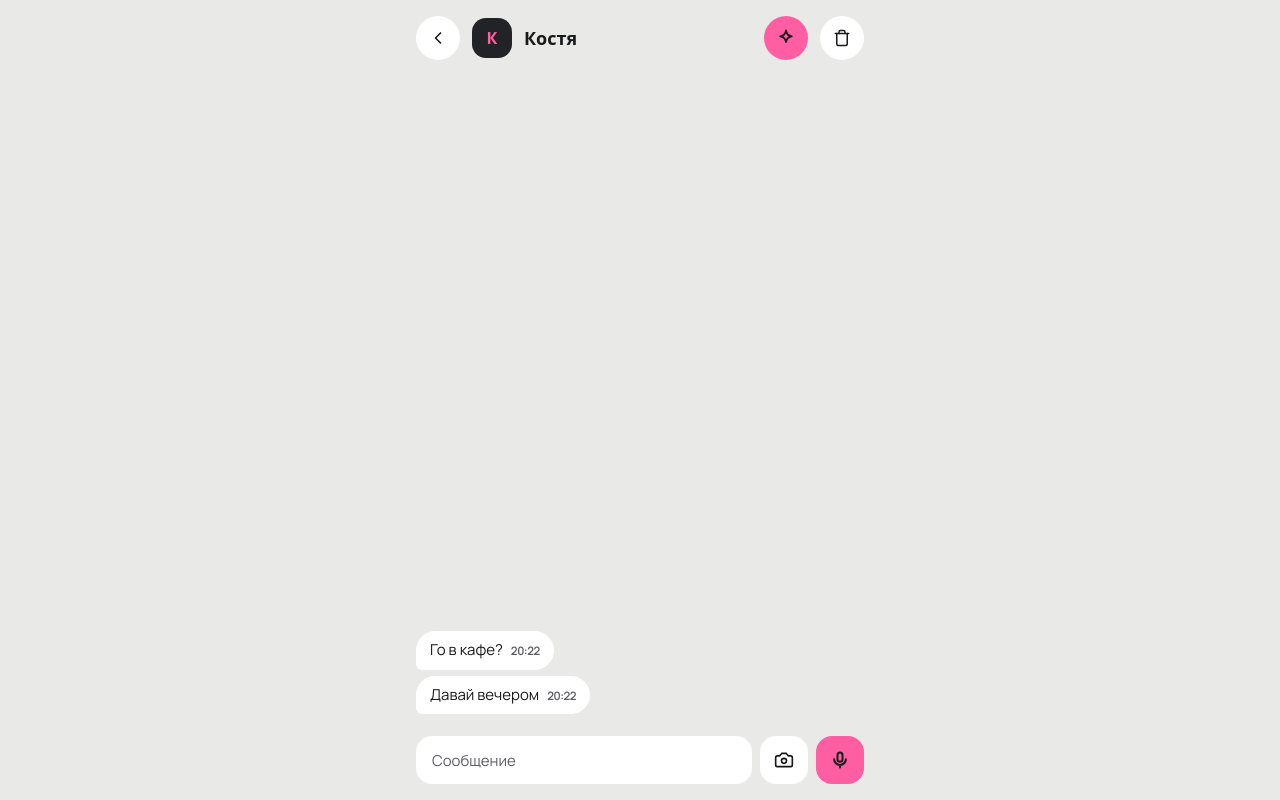
it: "Айда, организуй" in a chat (M5) › shows venues with review links and makes the chosen one a plan
The image size is (1280, 800).
Click the button named "Айда, организуй" at [786, 38], box x1=764 y1=16 x2=808 y2=60
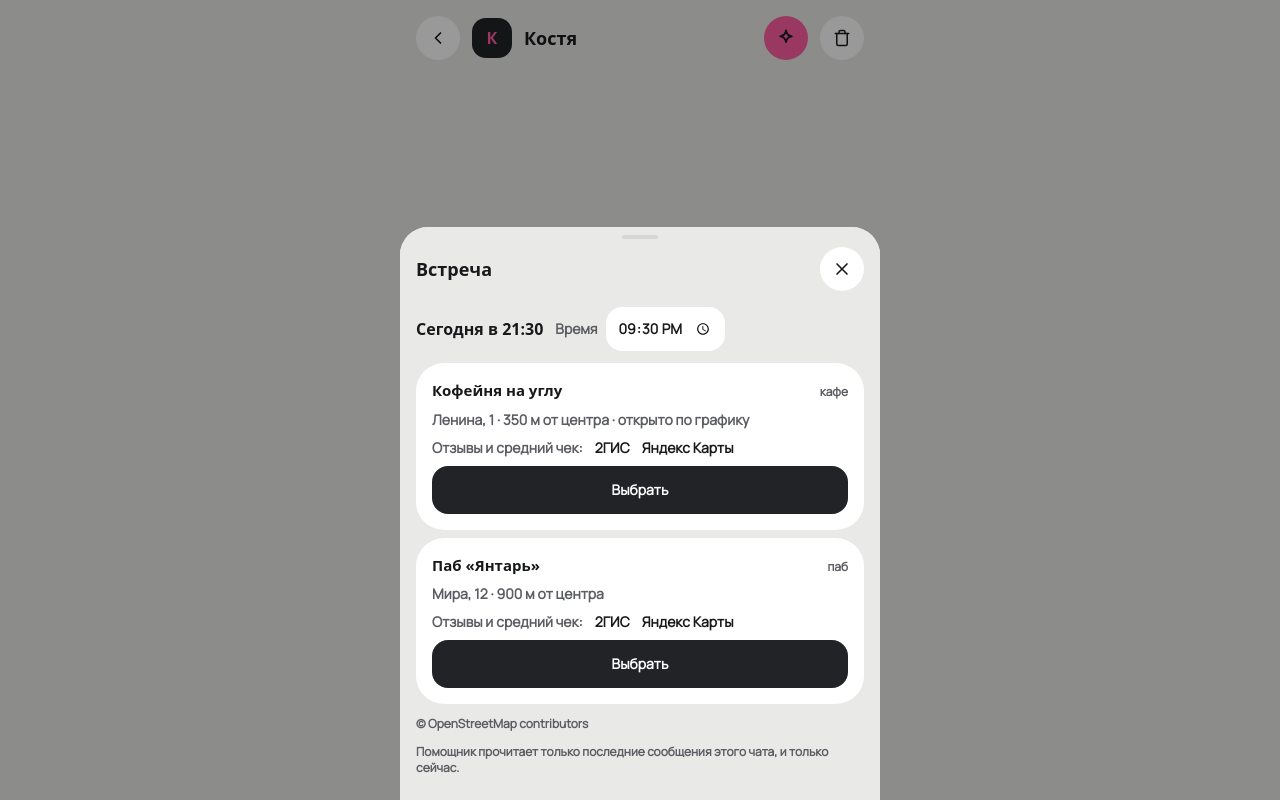
expect the text "© OpenStreetMap contributors" is shown: met, box x1=416 y1=715 x2=588 y2=732
expect the text "Сегодня в 21:30" is shown: met, box x1=416 y1=317 x2=543 y2=341
Click the button with aria-label "Выбрать Кофейня на углу" at [640, 490], box x1=432 y1=466 x2=848 y2=514
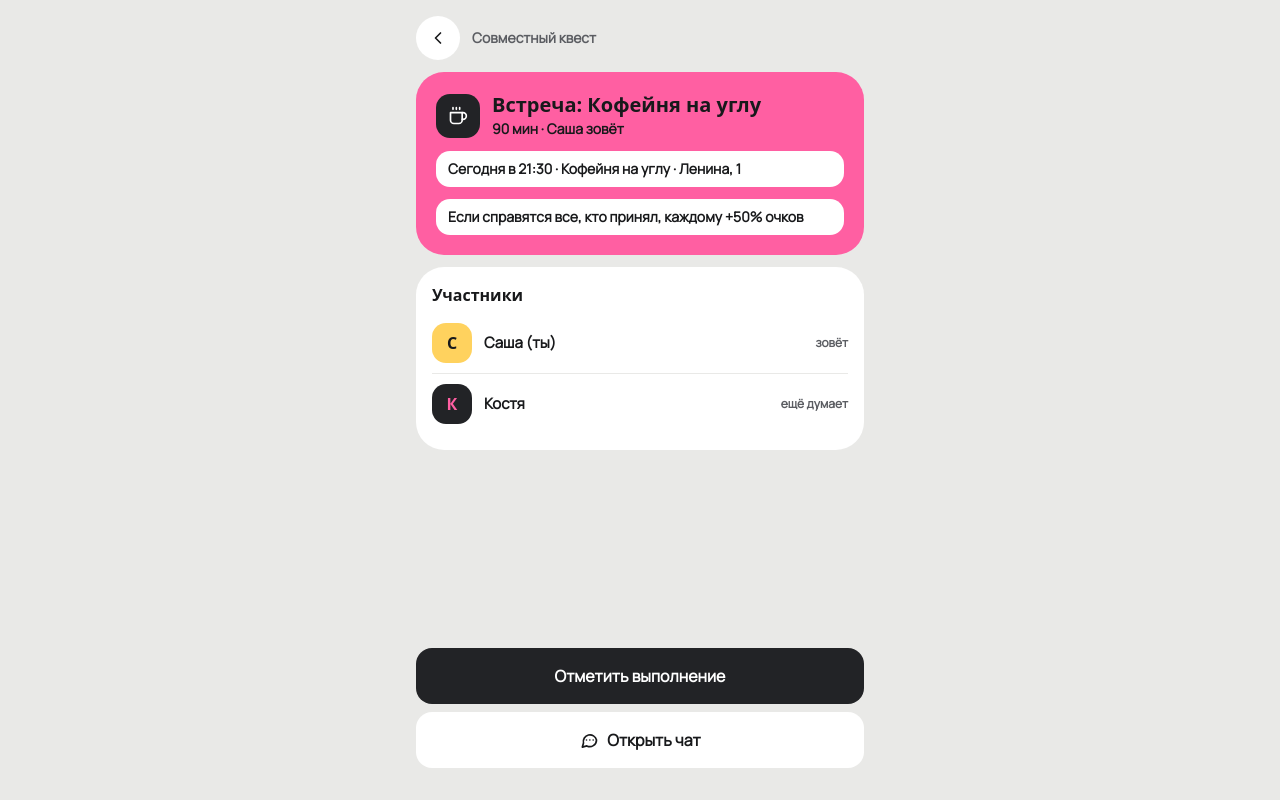
expect the heading "Встреча: Кофейня на углу" is shown: met, box x1=492 y1=92 x2=761 y2=117
expect the text "Сегодня в 21:30 · Кофейня на углу · Ленина, 1" is shown: met, box x1=436 y1=151 x2=844 y2=187
